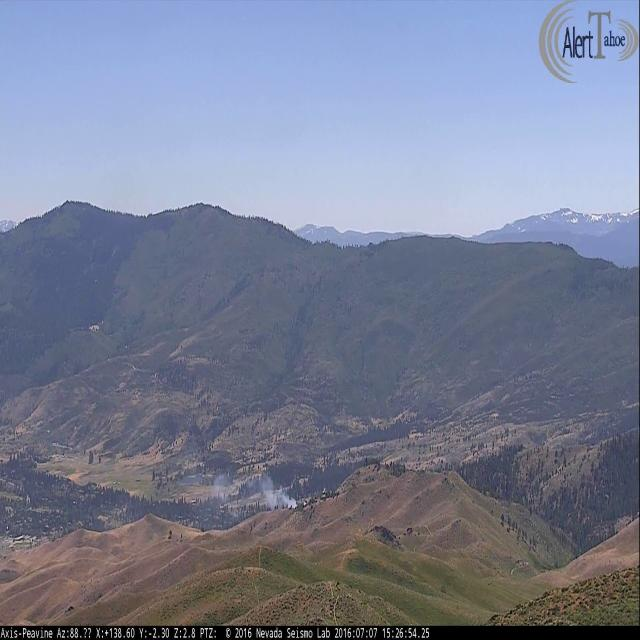smoke: (187, 432, 298, 513)
